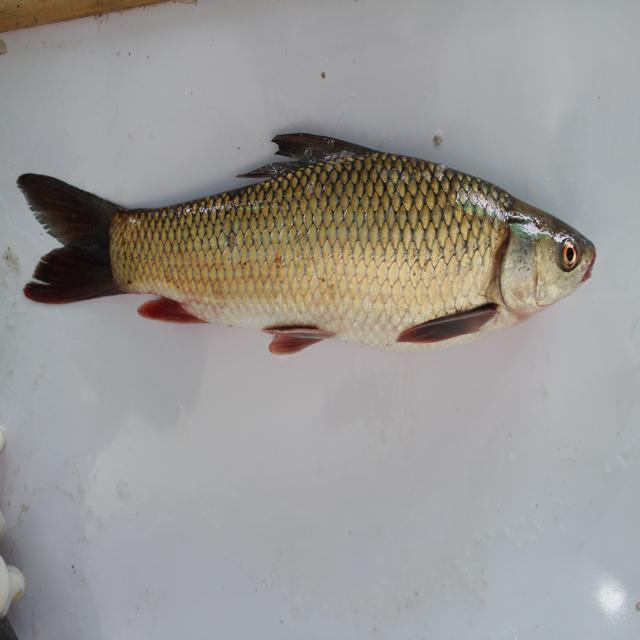Mori: (19, 130, 604, 375)
